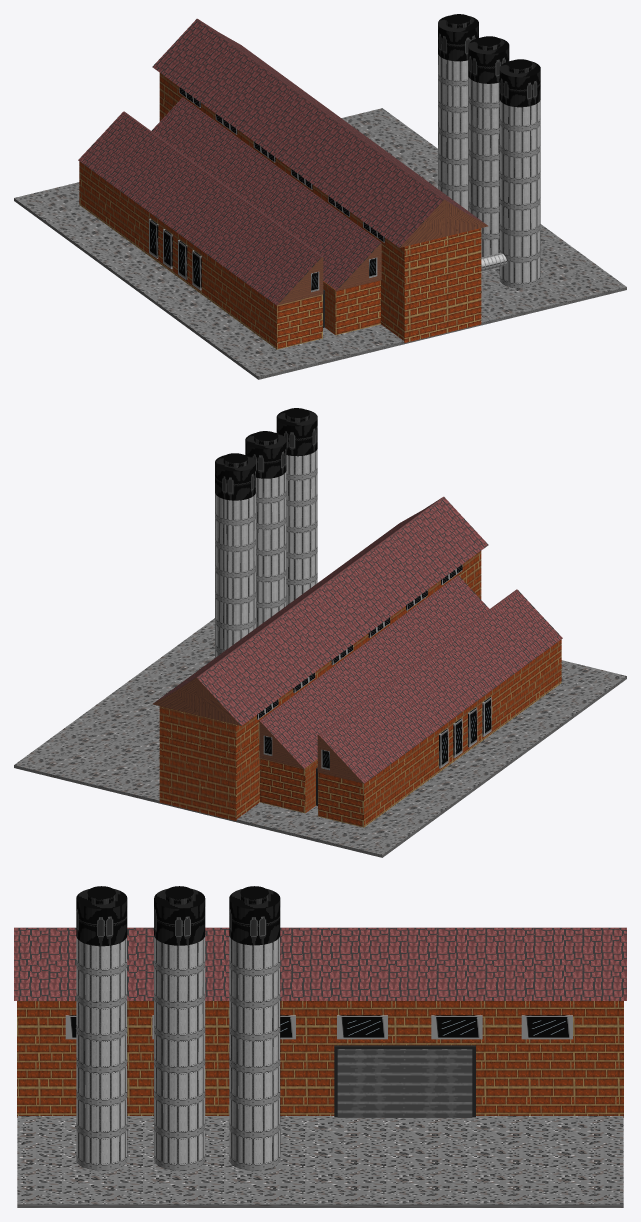
File: Factory (PixelArt).fbx
3 renders of one model, top to bottom at view 1: azimuth 30°, elevation 25°; view 2: azimuth 150°, elevation 25°; view 3: azimuth 270°, elevation 25°, orthographic. The views are drawn at different scales.
Parts seen in each view (by area): view 1: Rooves, Ground, Funnels, Side Building, Main Building, Window; view 2: Rooves, Ground, Funnels, Side Building, Main Building, Window; view 3: Ground, Funnels, Main Building, Rooves, Door, Window.
Part boxes in pixels (x1=…): Rooves: x1=78, y1=18, x2=488, y2=305; Ground: x1=14, y1=108, x2=626, y2=379; Funnels: x1=438, y1=14, x2=540, y2=288; Side Building: x1=79, y1=161, x2=380, y2=349; Main Building: x1=159, y1=73, x2=481, y2=342; Window: x1=149, y1=87, x2=384, y2=292; Rooves: x1=152, y1=496, x2=562, y2=783; Ground: x1=14, y1=618, x2=626, y2=857; Funnels: x1=215, y1=408, x2=317, y2=657; Side Building: x1=260, y1=639, x2=561, y2=827; Main Building: x1=159, y1=551, x2=481, y2=820; Window: x1=257, y1=564, x2=491, y2=770; Ground: x1=17, y1=1116, x2=623, y2=1207; Funnels: x1=76, y1=886, x2=280, y2=1170; Main Building: x1=17, y1=1001, x2=623, y2=1117; Rooves: x1=14, y1=927, x2=626, y2=1000; Door: x1=334, y1=1045, x2=475, y2=1117; Window: x1=65, y1=1015, x2=572, y2=1039.
Size of the model in its own units: 2061 by 1169 by 2395.
